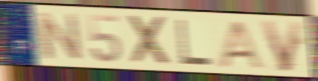5: (86, 13, 123, 64)
A: (216, 19, 268, 71)
L: (175, 18, 214, 67)
N: (35, 11, 85, 62)
V: (259, 19, 304, 74)
X: (126, 13, 173, 67)
